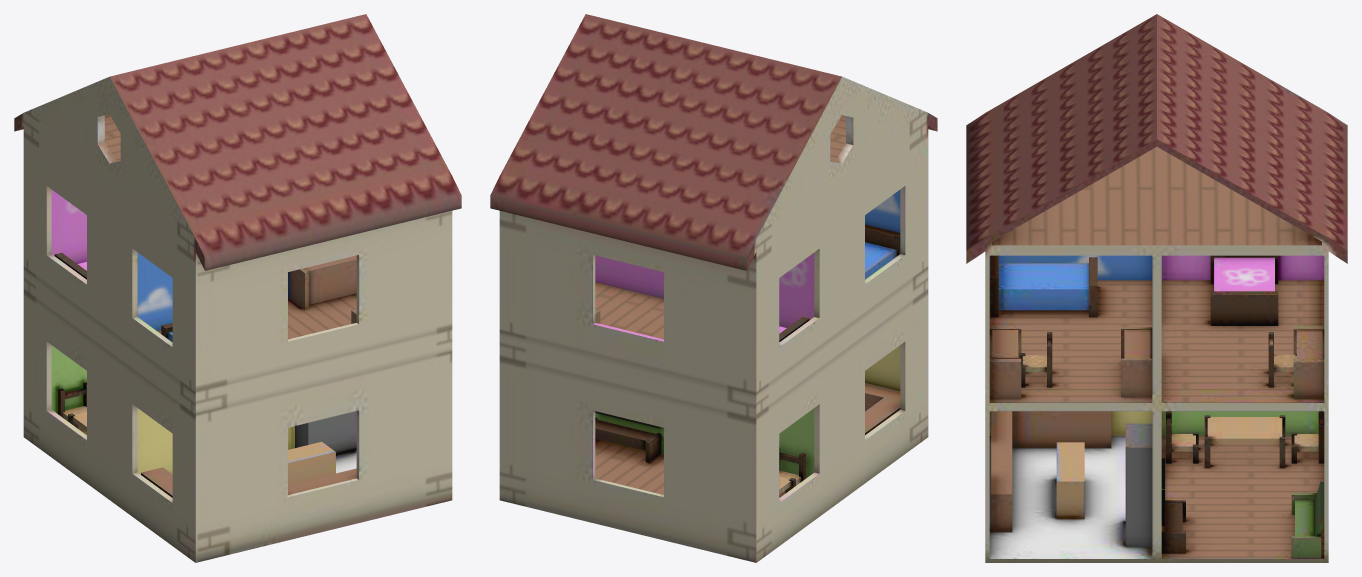
The model's file is maison_de_poupee.fbx.
3 views of the same model, side by side, from view 1: azimuth 30°, elevation 25°; view 2: azimuth 150°, elevation 25°; view 3: azimuth 270°, elevation 25° (orthographic).
Parts seen in each view (by area): view 1: polymsh13; view 2: polymsh13; view 3: polymsh13.
Part boxes in pixels (x1,y1,x2,y2): polymsh13: (14, 14, 461, 562); polymsh13: (490, 14, 937, 562); polymsh13: (966, 14, 1347, 562).
Bounding box in the file's own units: 2.97 × 4.69 × 3.83.
